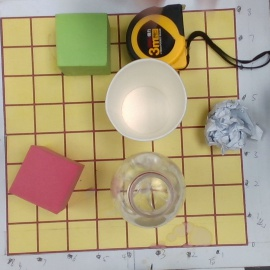bottle: (111, 152, 186, 227)
cup: (106, 59, 187, 141)
